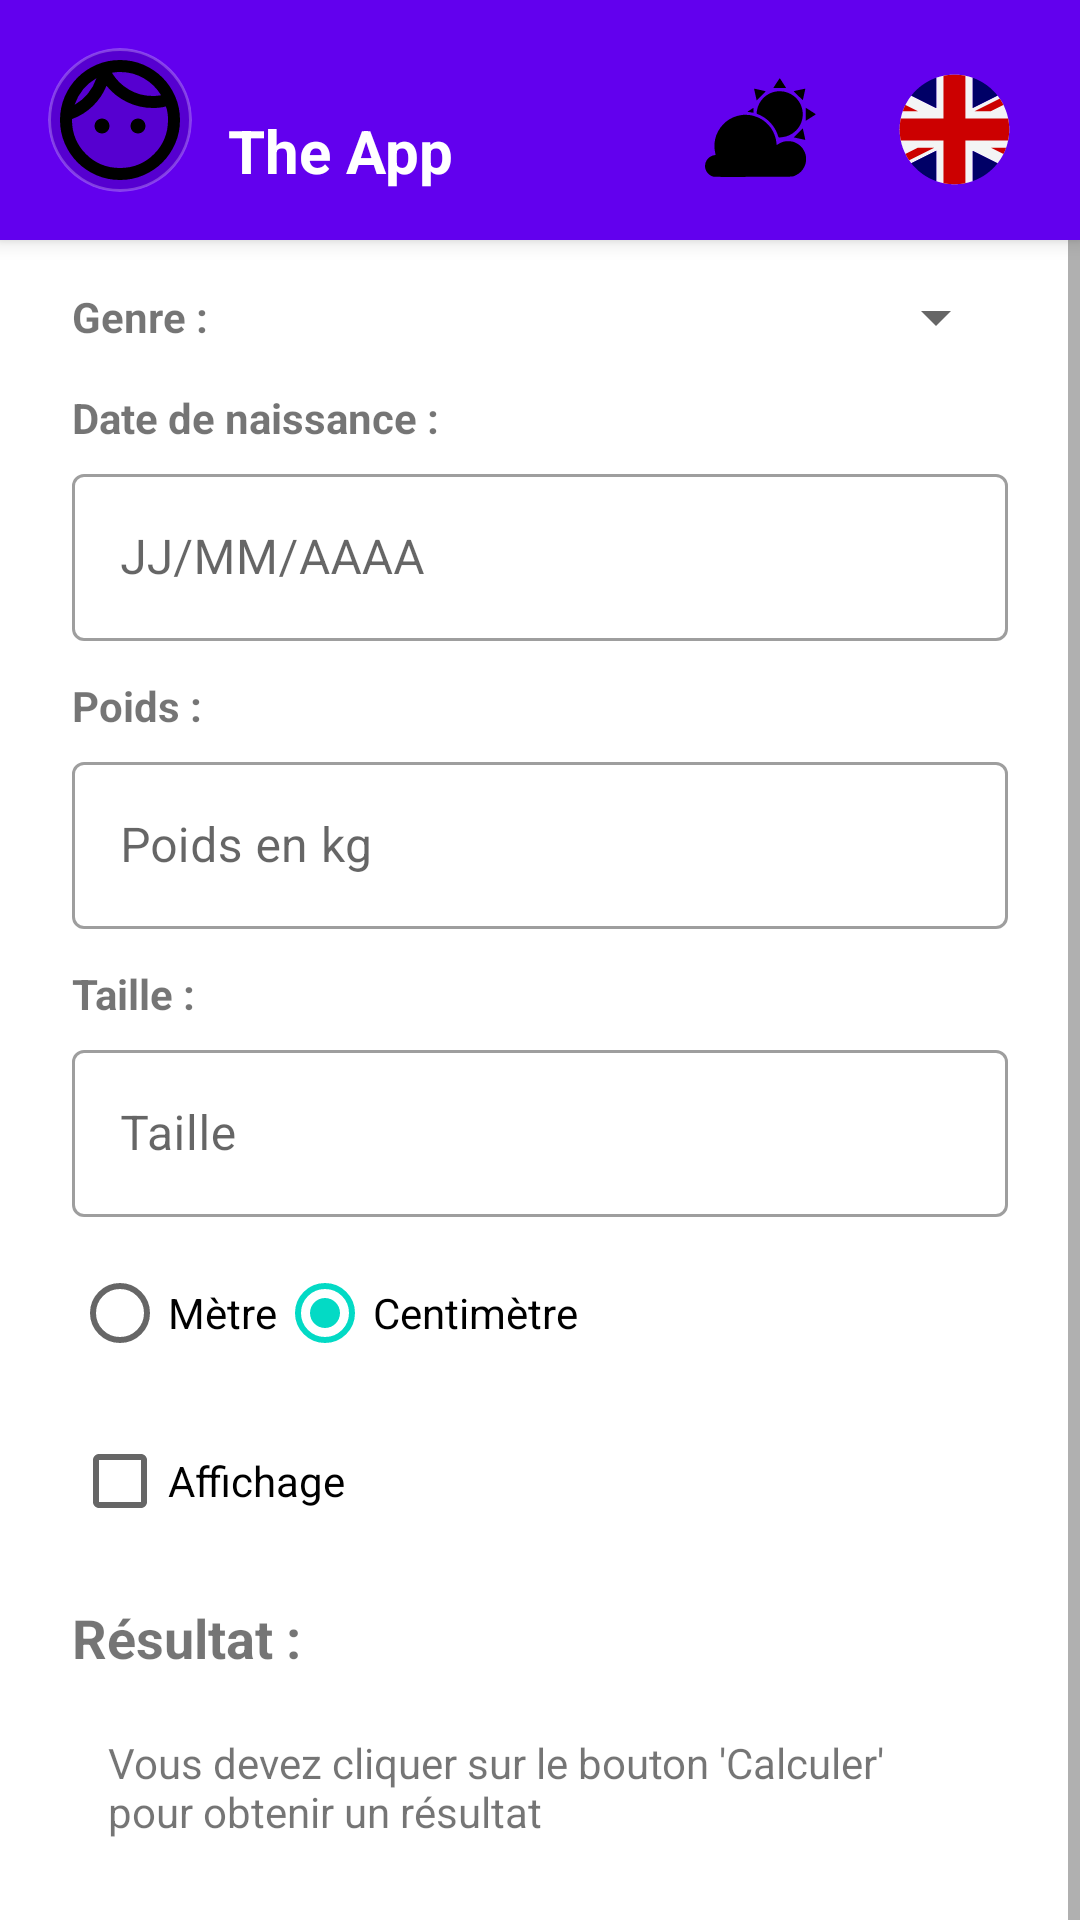

Where icons sit on this 1080px×1920px app screen, as box=[x1, y1, x2, y2]:
Changer la langue: box=[899, 74, 1010, 185]
day: box=[705, 78, 816, 177]
face: box=[48, 48, 192, 192]
